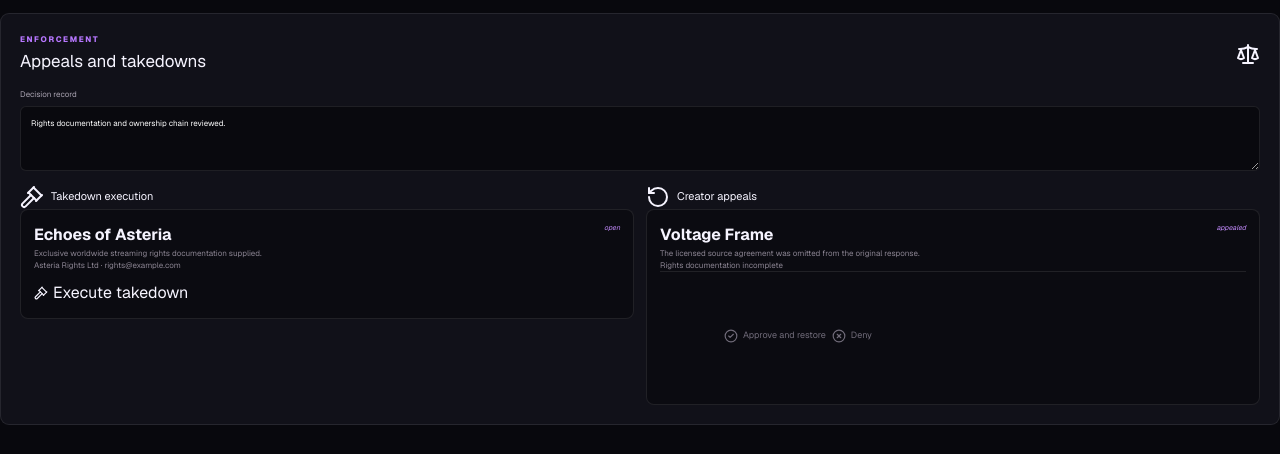
it: EnforcementCenter › executes takedowns and appeal remediation in local mode
Click the button "Execute takedown": (111, 292) x1=34 y1=280 x2=188 y2=304
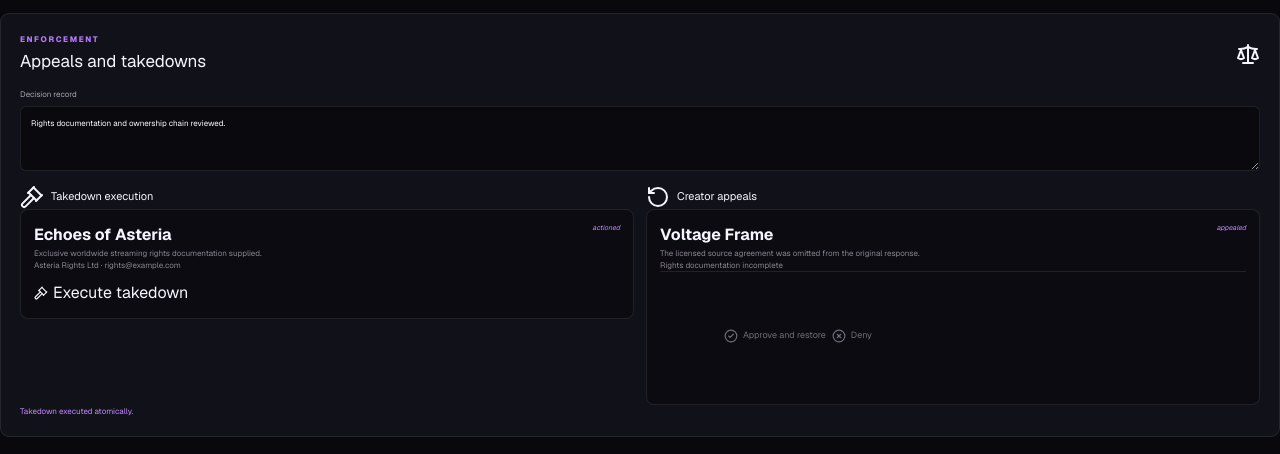
Expected: the text "Takedown executed atomically." is shown, x1=20 y1=406 x2=133 y2=416
Click the button "Approve and restore": (775, 336) x1=724 y1=324 x2=826 y2=348
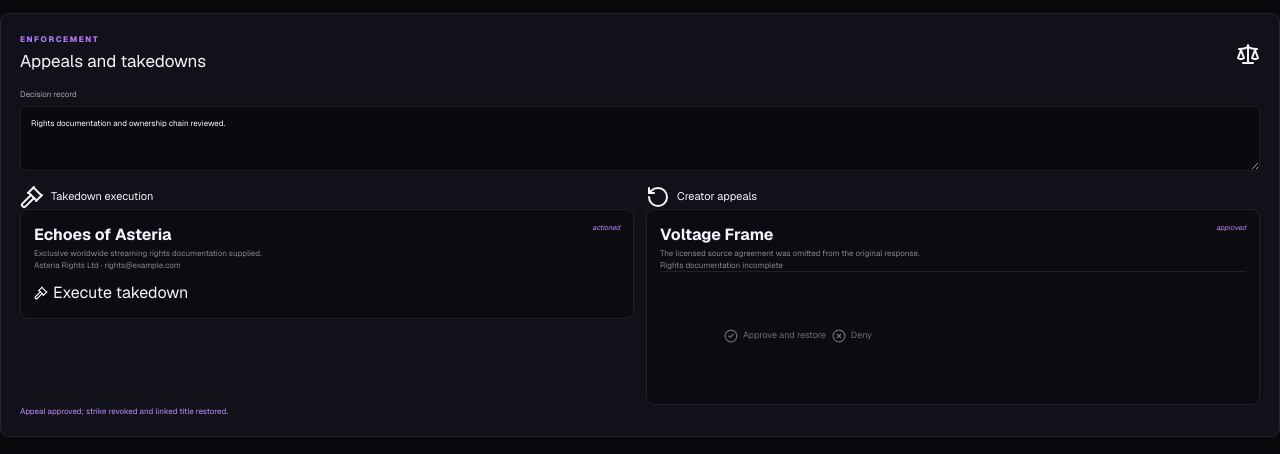
Expected: the text "Appeal approved; strike revoked and linked title restored." is shown, x1=20 y1=406 x2=228 y2=416
